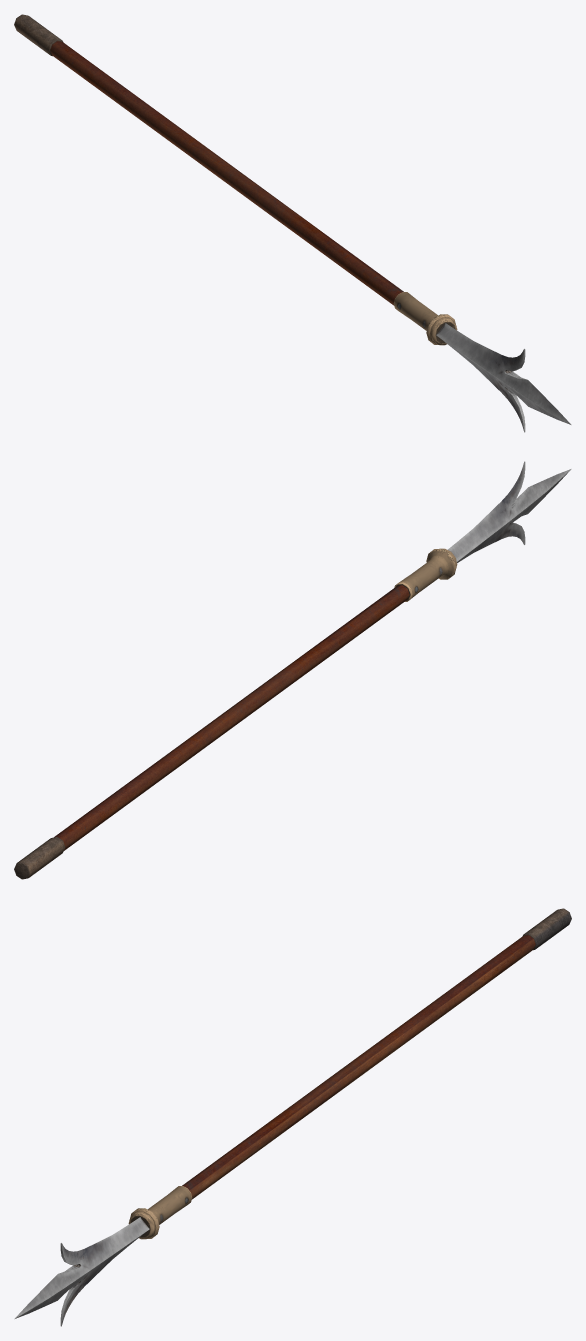
The model's file is weapon_glaive_02.fbx.
3 renders of one model, top to bottom at view 1: azimuth 30°, elevation 25°; view 2: azimuth 150°, elevation 25°; view 3: azimuth 330°, elevation 25°, orthographic.
Parts seen in each view (by area): view 1: weapon_glaive_02; view 2: weapon_glaive_02; view 3: weapon_glaive_02.
Part boxes in pixels (x1,y1,x2,y2): weapon_glaive_02: (14,14,571,432); weapon_glaive_02: (14,461,571,879); weapon_glaive_02: (14,908,571,1326).
Size of the model in its own units: 13.97 by 37.6 by 450.
1 material, 1 textured.
